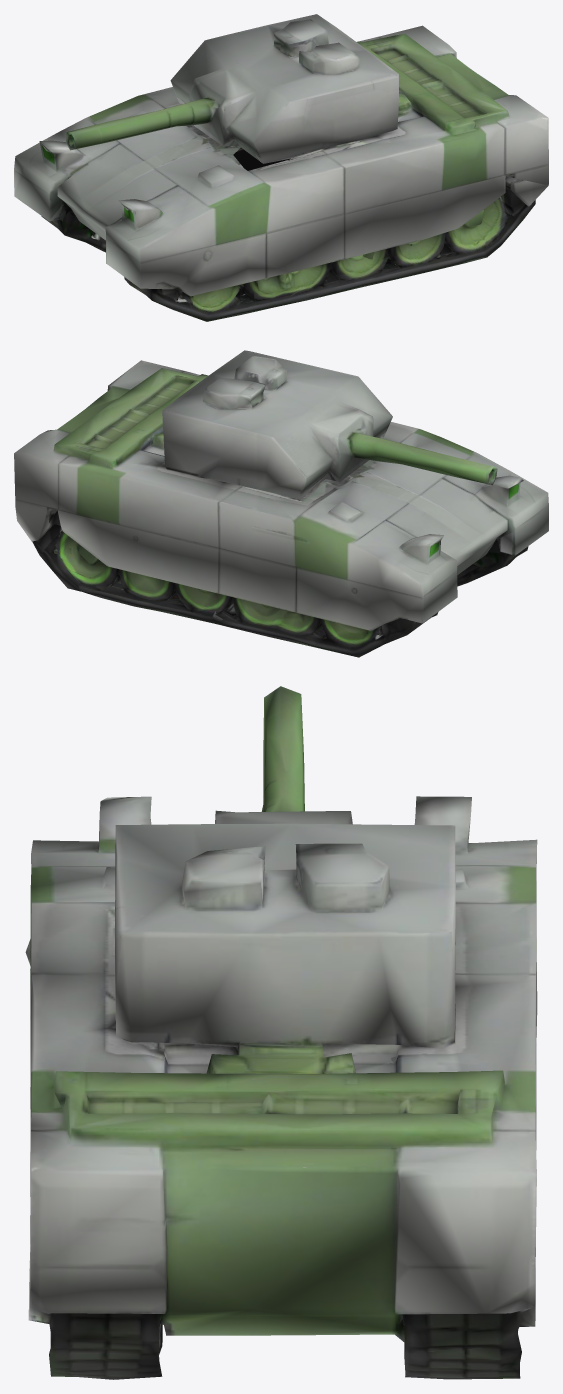
The model's file is Low_poly_military_veh_1028222936_texture.glb.
The picture shows the model from 3 angles, top to bottom: view 1: azimuth 30°, elevation 25°; view 2: azimuth 150°, elevation 25°; view 3: azimuth 270°, elevation 25°; orthographic projection. The views are drawn at different scales.
Visible parts, largest first — view 1: Mesh1.0; view 2: Mesh1.0; view 3: Mesh1.0.
Part boxes in pixels (x1,y1,x2,y2): Mesh1.0: [14, 14, 548, 321]; Mesh1.0: [14, 350, 548, 657]; Mesh1.0: [25, 686, 537, 1379].
Bounding box in the file's own units: 2.01 × 0.9356 × 1.07.
Materials: 1 (1 with a texture image).
